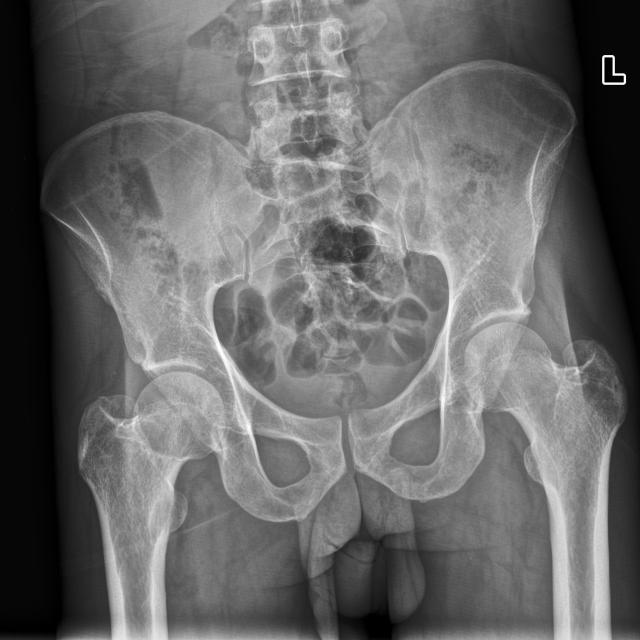normal-left: (464, 321, 627, 539)
normal-right: (79, 372, 225, 639)
